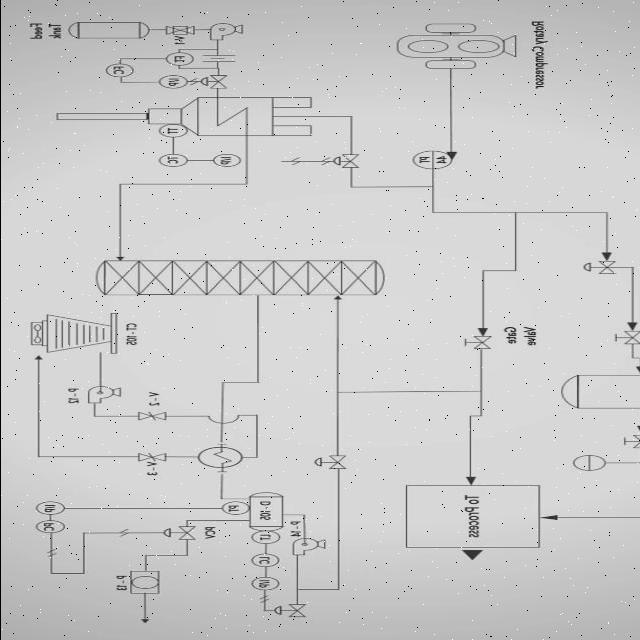Butterfly Valve: (120, 447, 176, 462), (128, 408, 172, 422)
Centrifugal Pump: (286, 535, 334, 562), (80, 382, 124, 405), (205, 18, 247, 42)
Gear Pump: (371, 15, 530, 76)
Hand Operated Gate Valve: (602, 326, 640, 347), (458, 334, 493, 352)
Orifice: (200, 51, 240, 68)
Plug Valve: (156, 20, 200, 38)
Pneumatic-Diaphragm Gate Valve: (303, 448, 359, 476), (156, 523, 203, 546), (262, 602, 306, 620), (330, 151, 364, 171), (577, 260, 615, 274), (193, 74, 229, 88)
